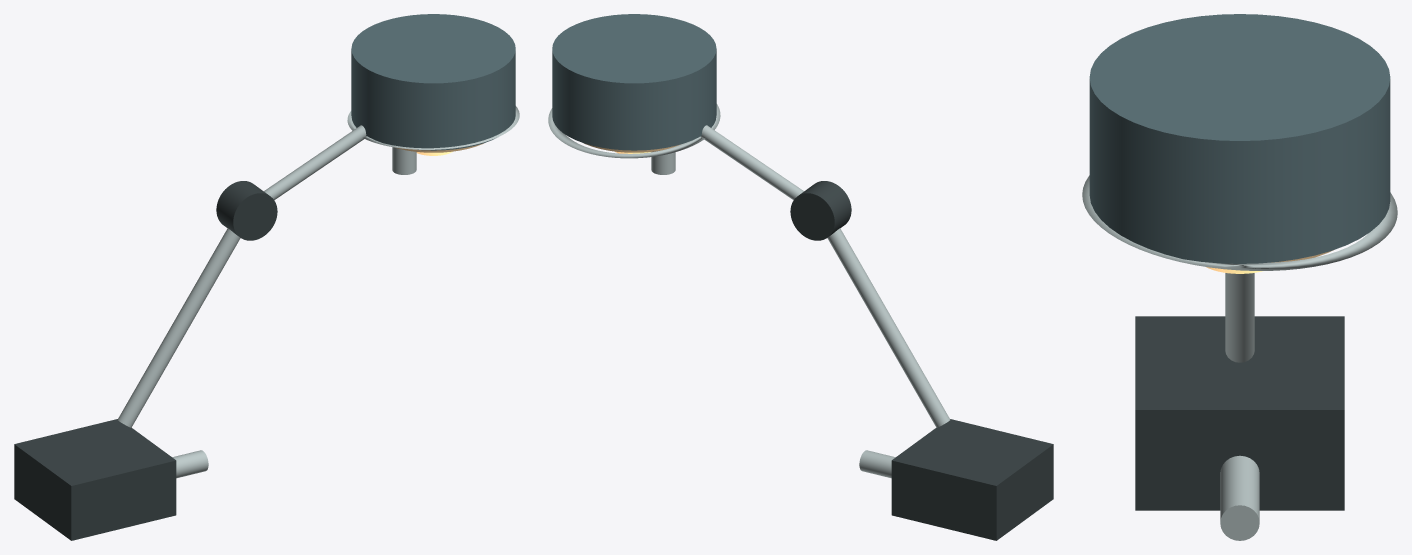
Rendered from side_lamp.glb.
3 renders of one model, left to right at view 1: azimuth 30°, elevation 25°; view 2: azimuth 150°, elevation 25°; view 3: azimuth 270°, elevation 25°, orthographic. The views are drawn at different scales.
Parts seen in each view (by area): view 1: ShadeBody, ClampJaw, LowerArm, ElbowJoint, UpperArm, ClampScrew, ShadeNeck, ShadeRim; view 2: ShadeBody, ClampJaw, LowerArm, ElbowJoint, UpperArm, ShadeRim, ClampScrew; view 3: ShadeBody, ClampJaw, ClampScrew, ShadeRim, LowerArm.
Part boxes in pixels (x1,y1,x2,y2): ShadeBody: (351, 14, 515, 150); ClampJaw: (14, 419, 176, 540); LowerArm: (117, 228, 240, 427); ElbowJoint: (216, 181, 277, 240); UpperArm: (264, 125, 366, 199); ClampScrew: (172, 450, 208, 478); ShadeNeck: (392, 147, 416, 174); ShadeRim: (347, 106, 519, 149); ShadeBody: (552, 14, 716, 150); ClampJaw: (891, 419, 1053, 540); LowerArm: (827, 228, 950, 427); ElbowJoint: (790, 181, 851, 240); UpperArm: (700, 125, 803, 199); ShadeRim: (548, 104, 720, 158); ClampScrew: (859, 450, 895, 478); ShadeBody: (1089, 14, 1390, 263); ClampJaw: (1135, 316, 1344, 510); ClampScrew: (1220, 455, 1259, 540); ShadeRim: (1082, 175, 1397, 270); LowerArm: (1225, 273, 1254, 362).
Size of the model in its own units: 0.399 by 0.308 by 0.128.
